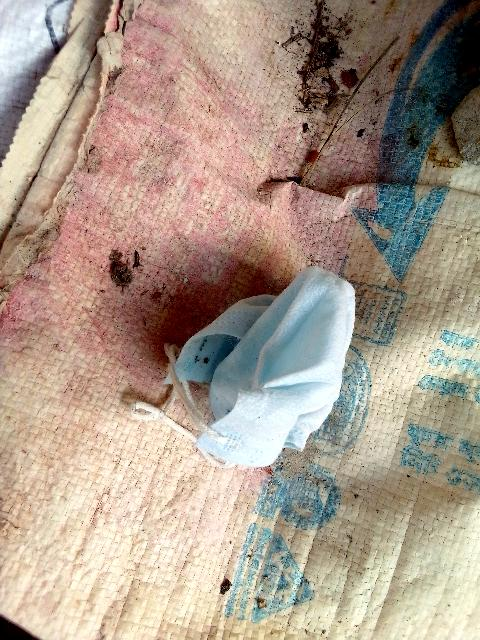mask: (193, 275, 351, 449)
